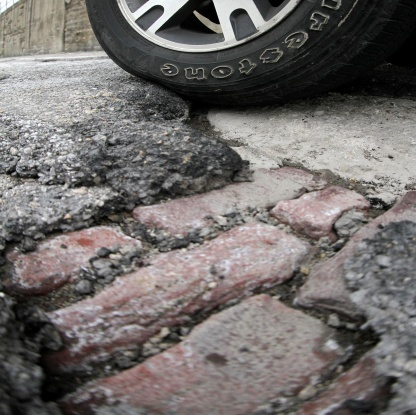pothole: (1, 82, 415, 413)
